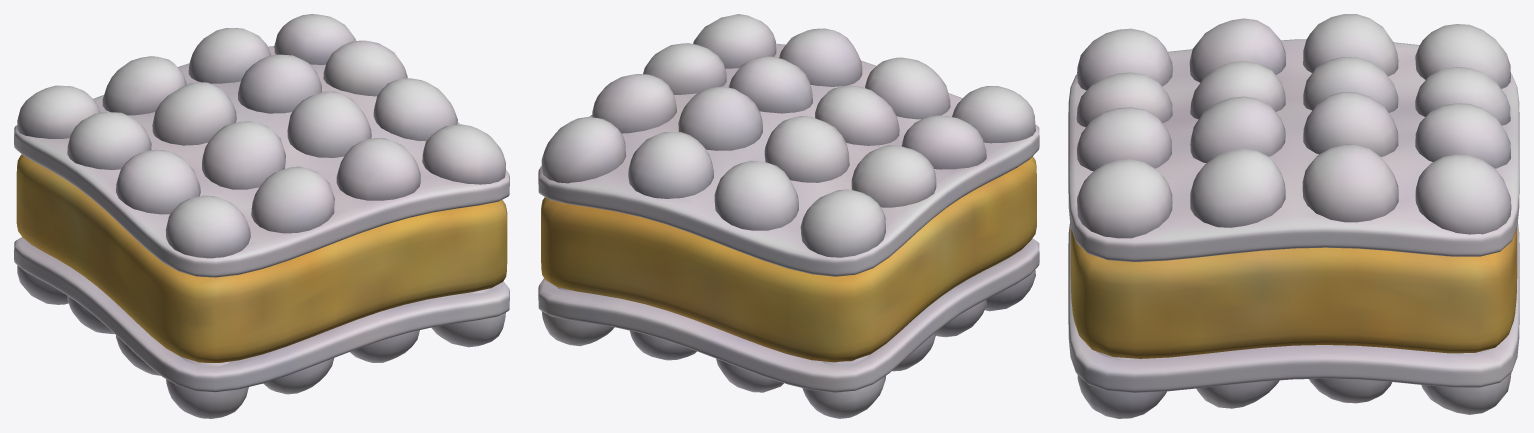
File: bilayer-tile.glb
3 views of the same model, side by side, from view 1: azimuth 30°, elevation 25°; view 2: azimuth 150°, elevation 25°; view 3: azimuth 270°, elevation 25° (orthographic). The views are drawn at different scales.
Parts seen in each view (by area): view 1: bilayer-tile-heads, bilayer-tile-tails; view 2: bilayer-tile-heads, bilayer-tile-tails; view 3: bilayer-tile-heads, bilayer-tile-tails.
Part boxes in pixels (bbox=[...]): bilayer-tile-heads: bbox=[14, 14, 509, 418]; bilayer-tile-tails: bbox=[16, 154, 507, 362]; bilayer-tile-heads: bbox=[538, 14, 1039, 418]; bilayer-tile-tails: bbox=[541, 156, 1036, 362]; bilayer-tile-heads: bbox=[1068, 14, 1519, 418]; bilayer-tile-tails: bbox=[1070, 227, 1517, 358].
Size of what is drawn, in the model's own units: 2 by 1.36 by 2.
